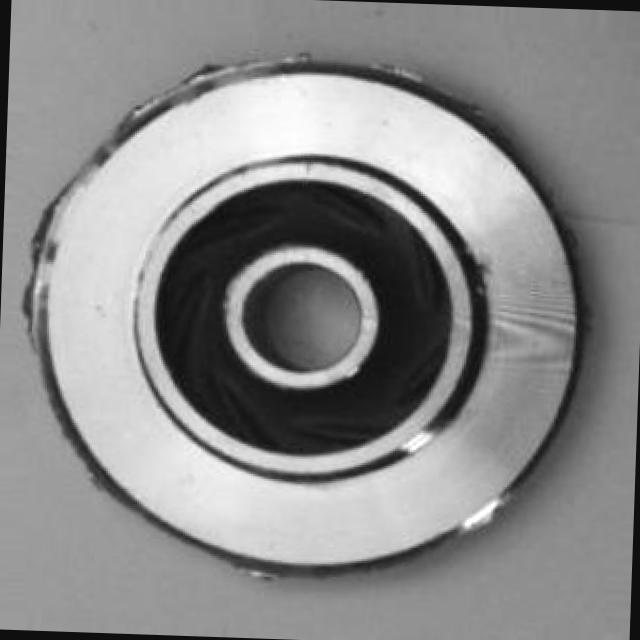Defect: (115, 49, 242, 130)
